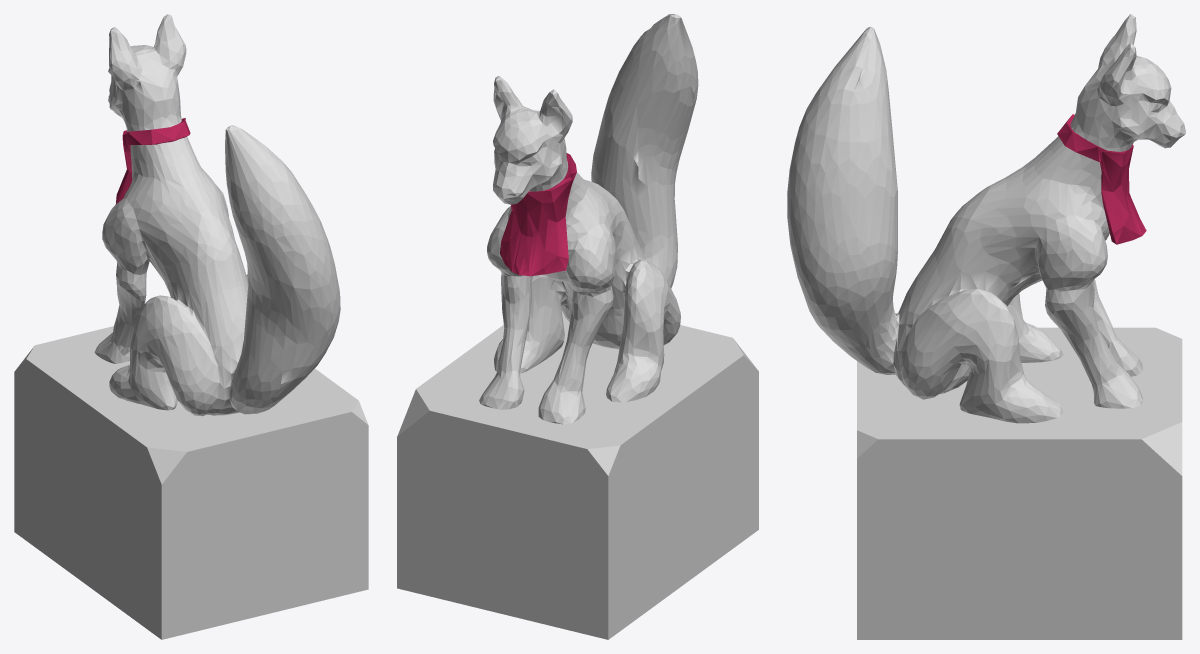
Rendered from Vos standbeeld 01.fbx.
3 renders of one model, left to right at view 1: azimuth 30°, elevation 25°; view 2: azimuth 150°, elevation 25°; view 3: azimuth 270°, elevation 25°, orthographic. The views are drawn at different scales.
Visible parts, largest first — view 1: Cube.010; view 2: Cube.010; view 3: Cube.010.
Boxes of the visible parts, <box> form: Cube.010: <box>14,14,368,639</box>; Cube.010: <box>397,14,758,639</box>; Cube.010: <box>787,14,1185,639</box>.
Bounding box in the file's own units: 30.56 × 71.07 × 46.19.
